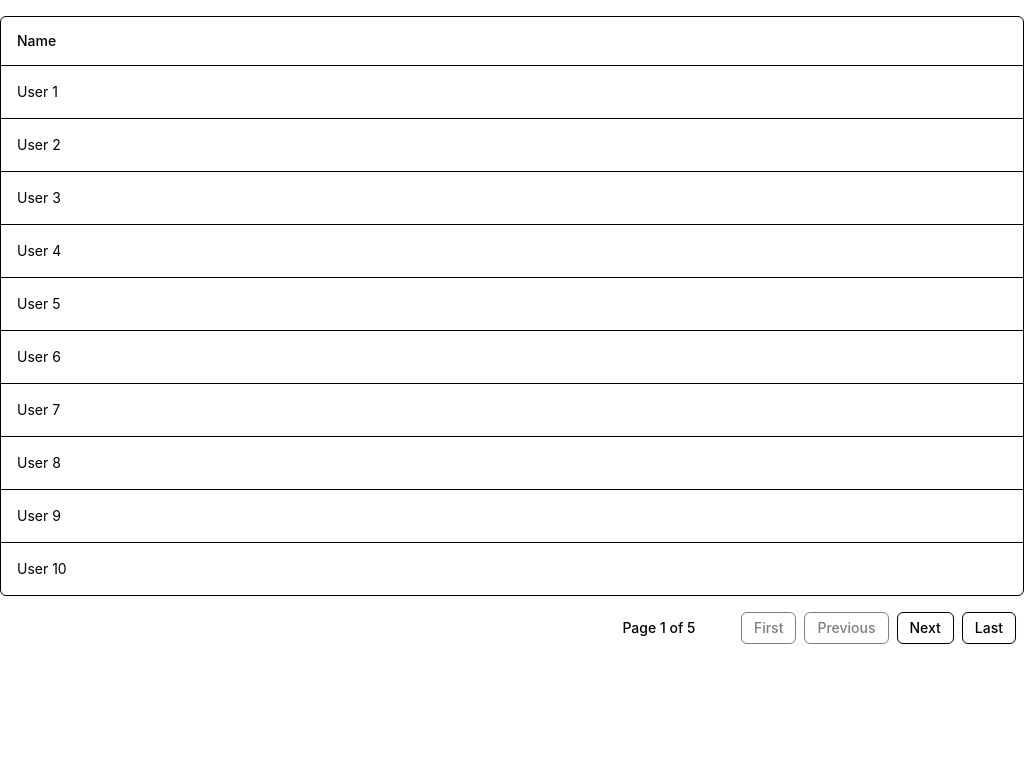
TableWidget - Advanced Features › Pagination › navigates to next page
Expected: the text "User 1" is shown, [1,65,1023,118]
Step 1. Click the button "Next" → x=925, y=628, box [896,612,954,644]
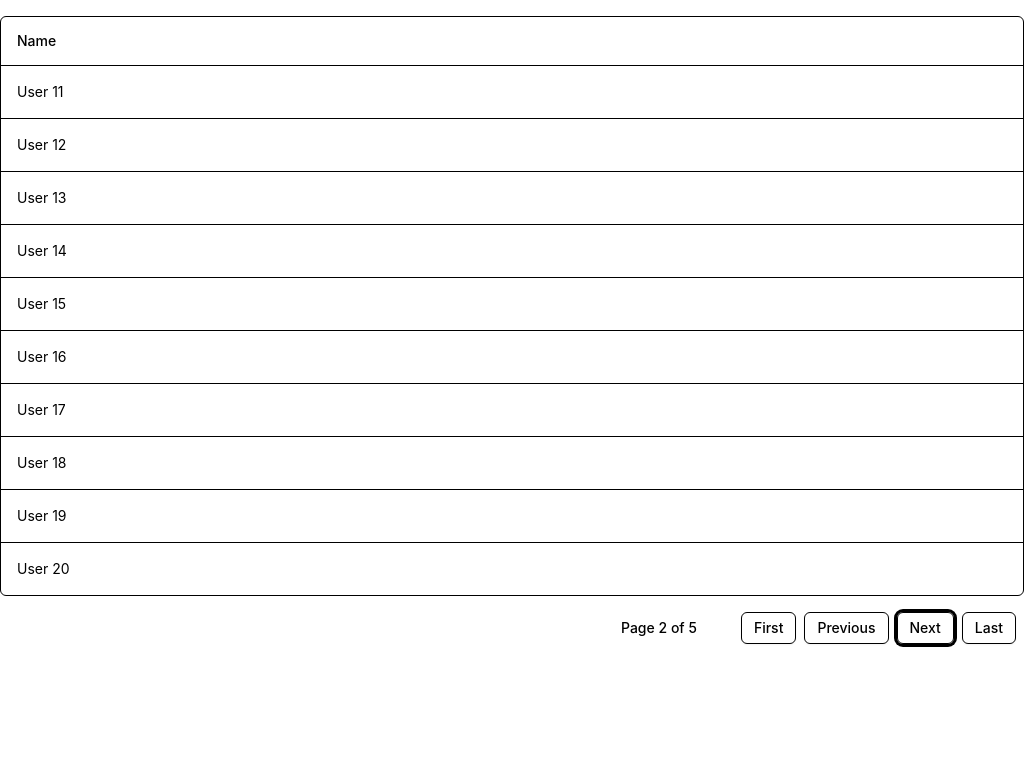
Expected: the text "User 11" is shown, [1,65,1023,118]
